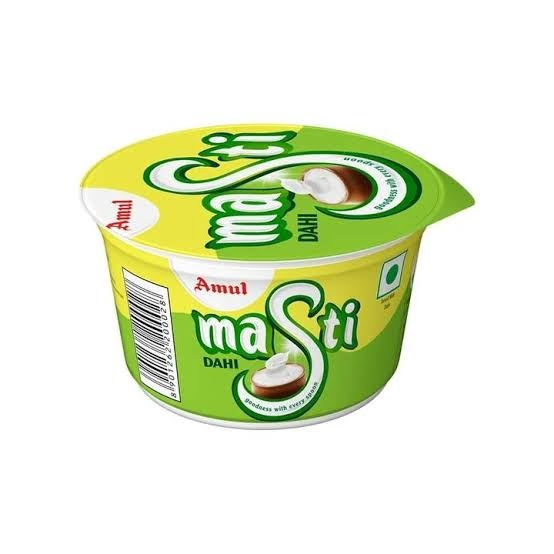Amul-masti: (69, 131, 479, 427)
